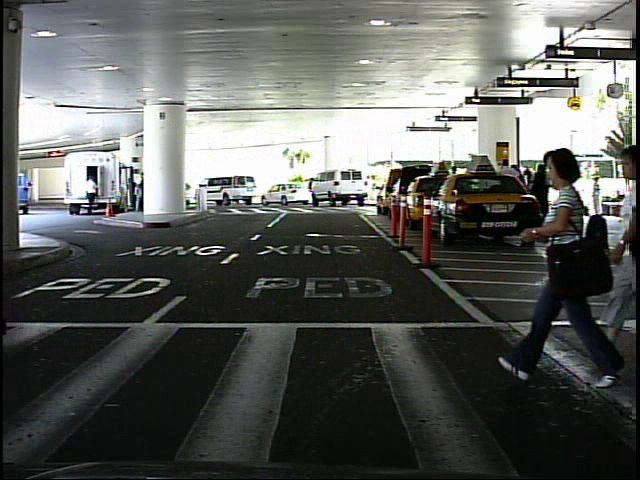person: (527, 138, 616, 396), (84, 172, 103, 218), (588, 172, 607, 218), (366, 171, 379, 205)
